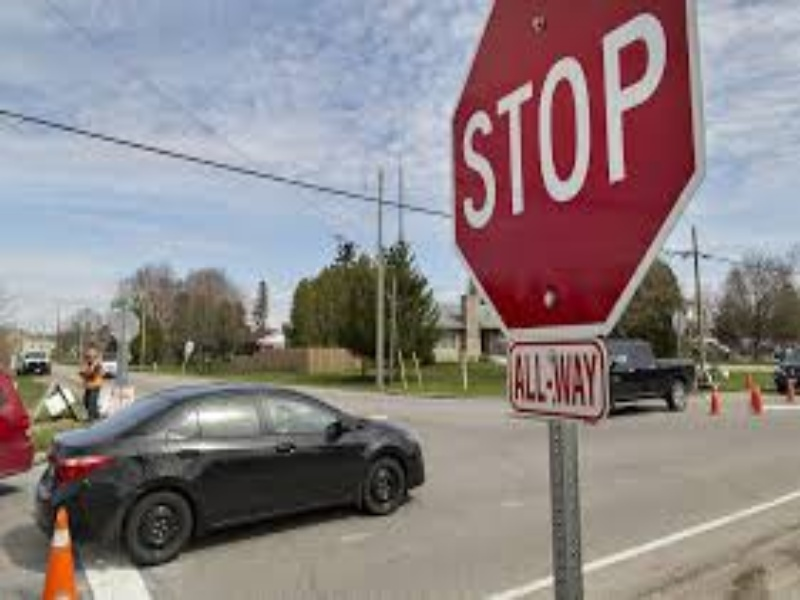Stop_Sign: (453, 1, 698, 342)
